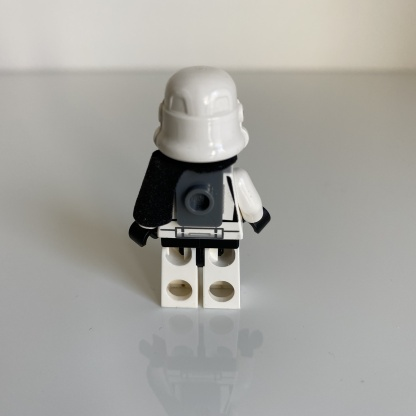sturmtruppler: (128, 66, 273, 310)
